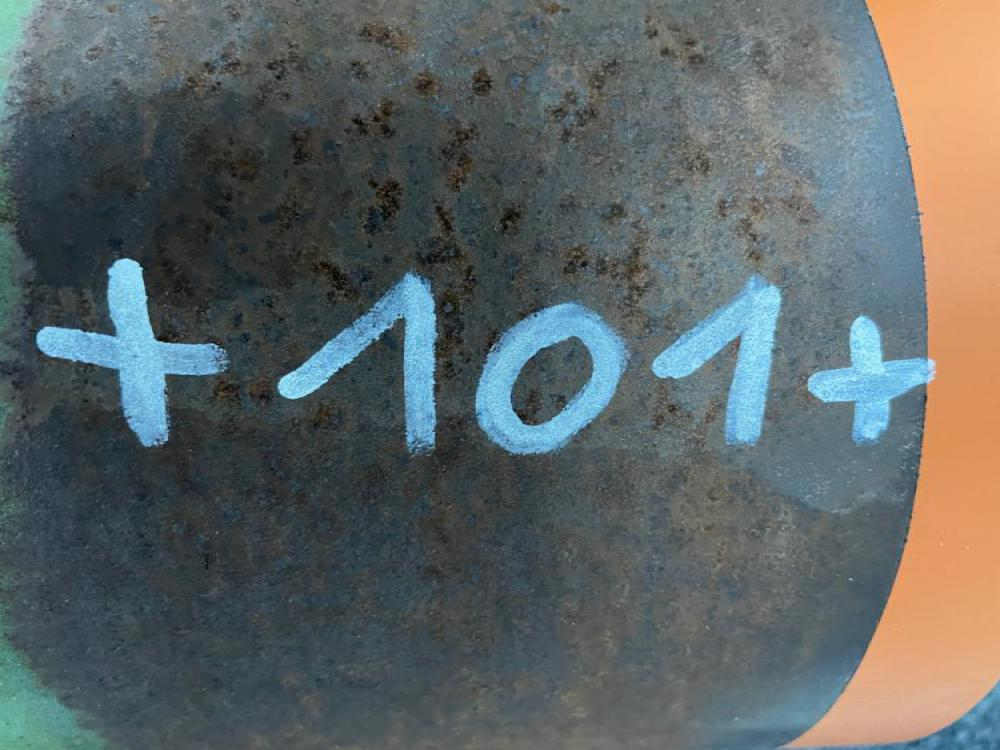+: (34, 254, 230, 446), (803, 317, 934, 447)
0: (468, 300, 630, 455)
1: (264, 271, 450, 457), (651, 277, 797, 444)
